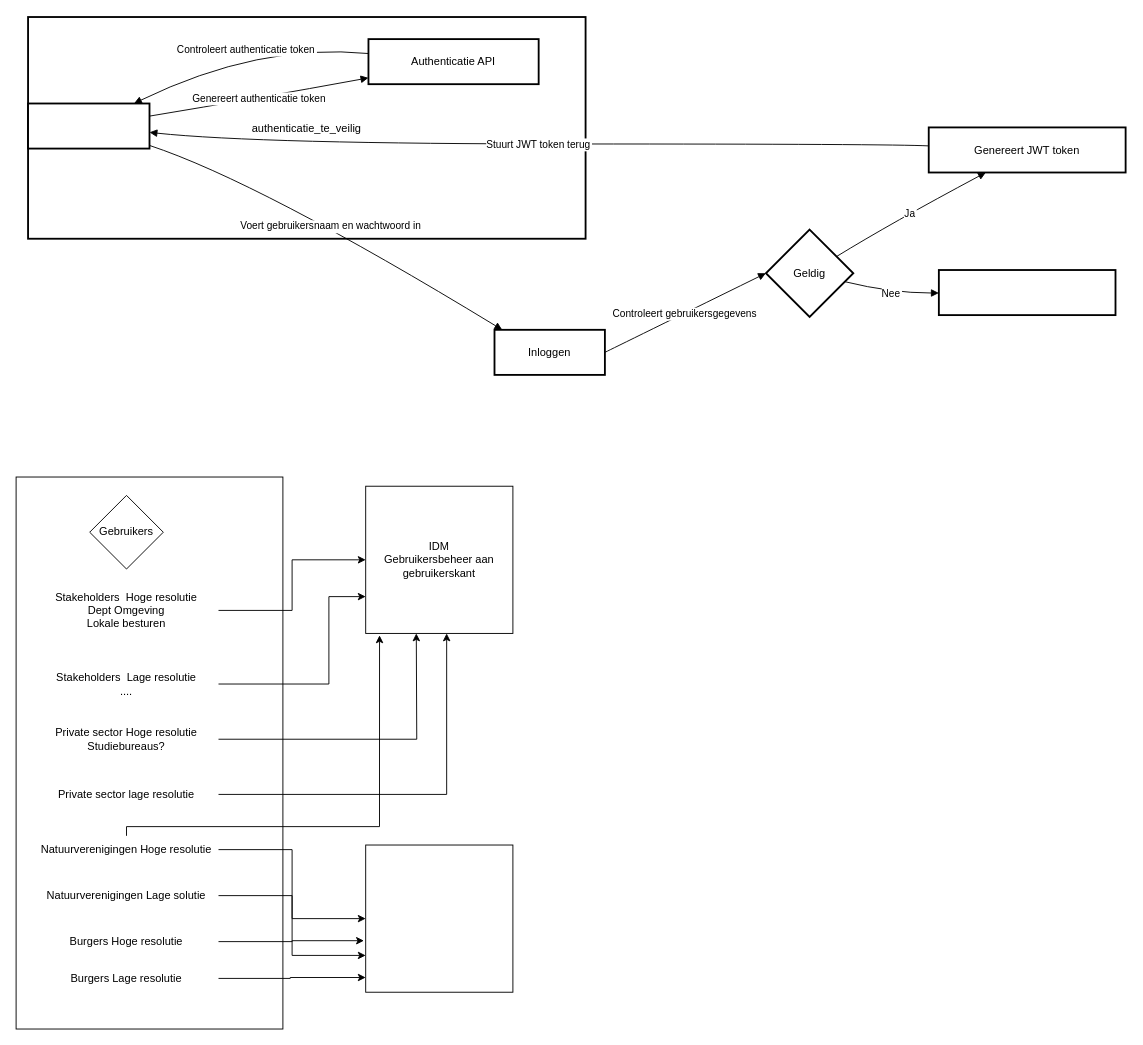
Some shapes in this 1143 by 1045 pixel diagram are drawn without their labels. The centre of each missing label's shape, as x and y in pixels:
"Gebruiker" goes at point (88, 125).
"IDM Gebruikersbeheer aan VBP kant" goes at point (439, 918).
"Toont foutmelding" goes at point (1026, 292).
